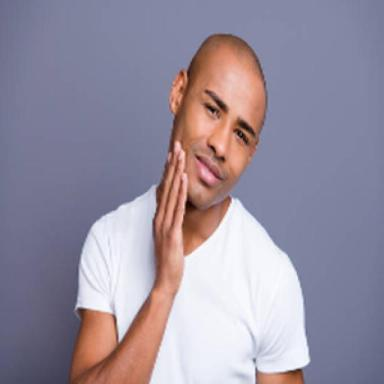normal skin: (70, 33, 269, 384), (257, 369, 304, 384)
